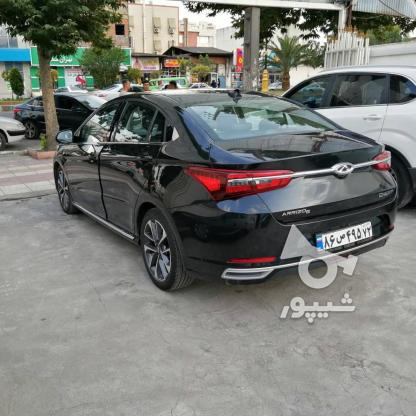car: (317, 219, 375, 255)
